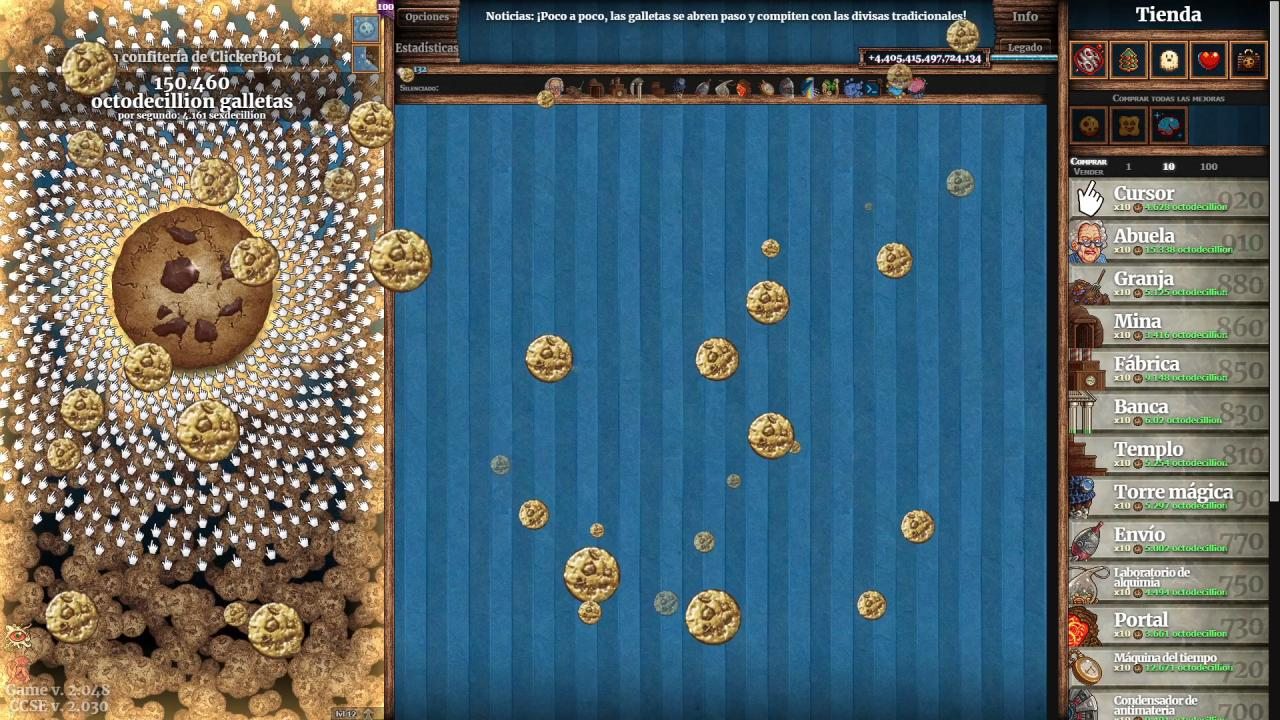GoldenCookie: (174, 399, 241, 465), (368, 228, 433, 293), (562, 545, 624, 605), (684, 587, 743, 648), (247, 600, 305, 660), (61, 40, 119, 97), (44, 589, 100, 644), (229, 236, 281, 287), (524, 333, 575, 385), (122, 342, 174, 392), (189, 158, 239, 207), (348, 100, 397, 150), (748, 411, 796, 461), (694, 336, 742, 383), (744, 280, 791, 326), (61, 387, 105, 433), (67, 130, 106, 170), (876, 241, 914, 280), (944, 18, 982, 55), (900, 509, 936, 546), (48, 437, 82, 472), (323, 167, 357, 201), (518, 498, 550, 532), (856, 588, 888, 620), (320, 96, 350, 127), (946, 168, 976, 199), (653, 588, 680, 618), (887, 61, 914, 90), (222, 601, 250, 628), (578, 600, 604, 626), (692, 530, 717, 554), (489, 454, 512, 478), (536, 89, 556, 110), (760, 238, 780, 258), (589, 522, 606, 540), (399, 67, 416, 84), (726, 473, 742, 489), (787, 439, 803, 455)
